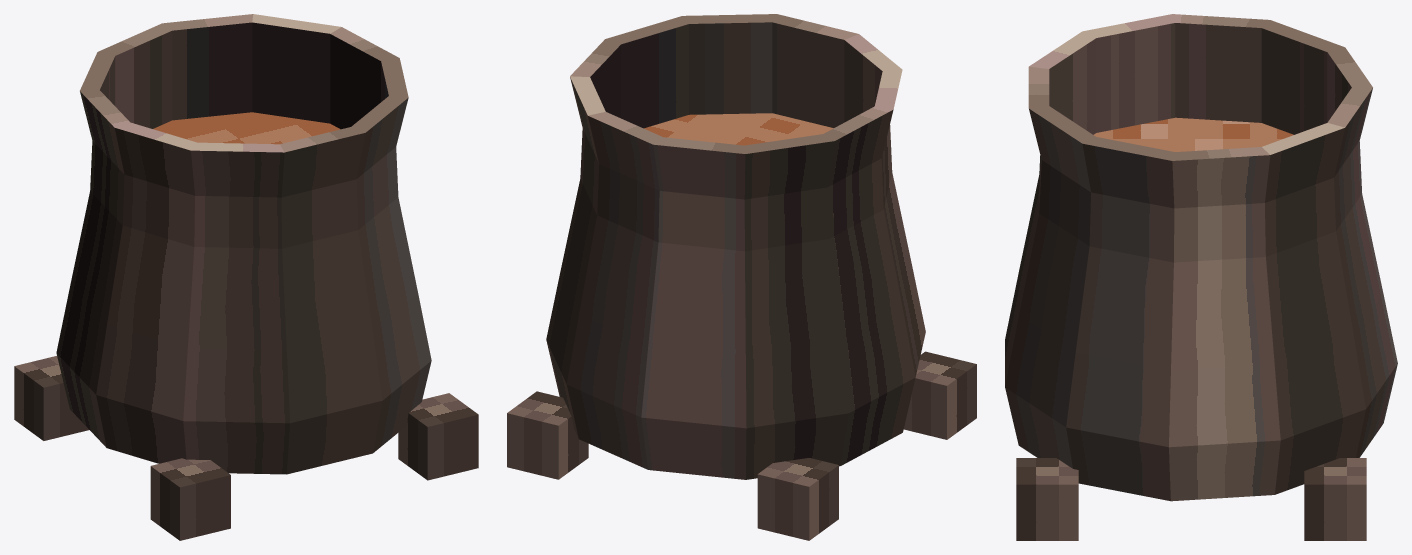
The model's file is cauldron_995x02.gltf.
3 renders of one model, left to right at view 1: azimuth 30°, elevation 25°; view 2: azimuth 150°, elevation 25°; view 3: azimuth 270°, elevation 25°, orthographic. The views are drawn at different scales.
Visible parts, largest first — view 1: cauldron_995x02; view 2: cauldron_995x02; view 3: cauldron_995x02.
Boxes of the visible parts, box(x1,y1,x2,y2) form: cauldron_995x02: box(14, 14, 478, 540); cauldron_995x02: box(507, 14, 976, 540); cauldron_995x02: box(1005, 14, 1397, 540).
Bounding box in the file's own units: 1.59 × 1.67 × 1.58.
1 material, 1 textured.
